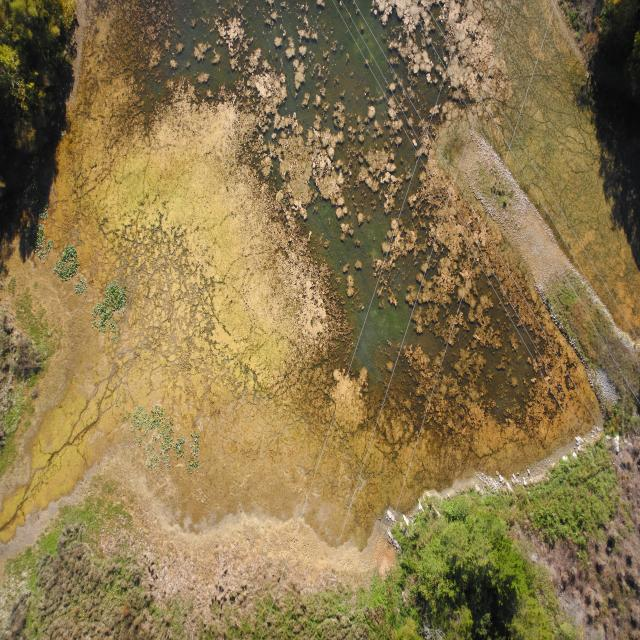Area of Interest: (430, 521, 543, 625), (4, 2, 61, 146)
